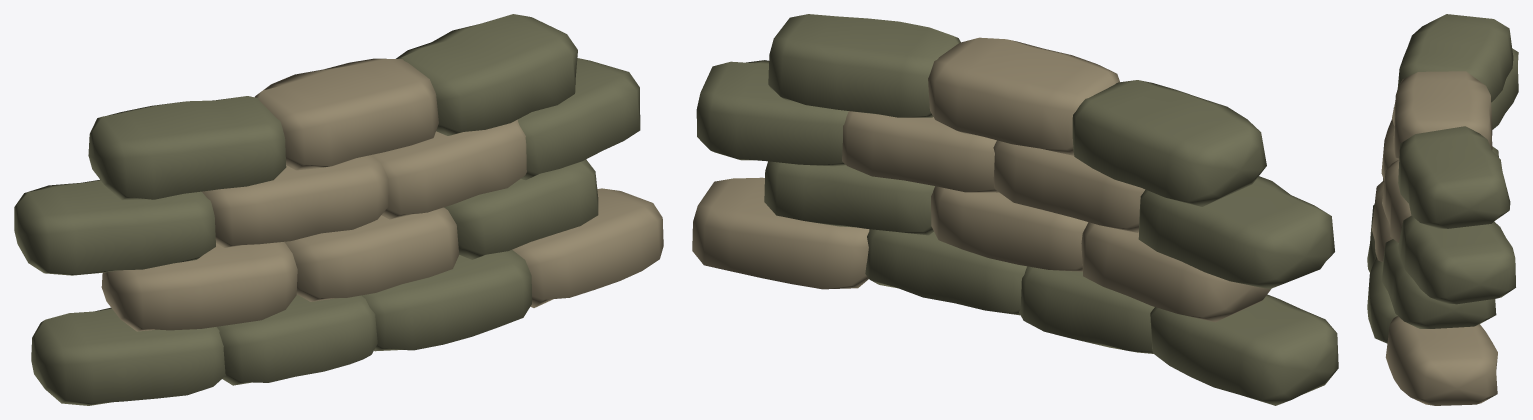
Rendered from kit_sandbags.glb.
3 views of the same model, side by side, from view 1: azimuth 30°, elevation 25°; view 2: azimuth 150°, elevation 25°; view 3: azimuth 270°, elevation 25° (orthographic). The views are drawn at different scales.
Visible parts, largest first — view 1: kit_sandbags_dark_cloth, kit_sandbags_cloth; view 2: kit_sandbags_dark_cloth, kit_sandbags_cloth; view 3: kit_sandbags_dark_cloth, kit_sandbags_cloth.
Part boxes in pixels (left/top/right/bottom): kit_sandbags_dark_cloth: left=14, top=14, right=640, bottom=405; kit_sandbags_cloth: left=101, top=58, right=663, bottom=331; kit_sandbags_dark_cloth: left=696, top=14, right=1338, bottom=405; kit_sandbags_cloth: left=692, top=37, right=1271, bottom=322; kit_sandbags_dark_cloth: left=1367, top=14, right=1518, bottom=343; kit_sandbags_cloth: left=1372, top=71, right=1497, bottom=405.
Size of the model in its own units: 2.21 by 0.8635 by 0.5922.
